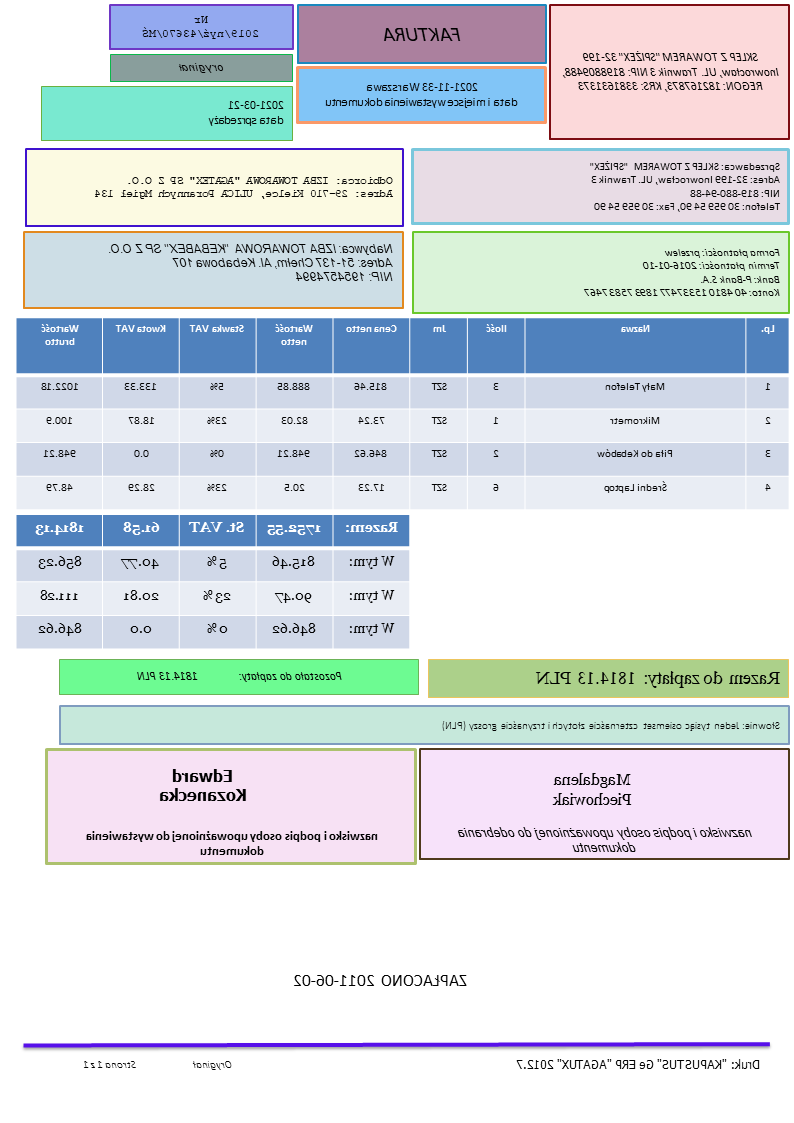Table: (14, 315, 793, 511), (13, 515, 412, 652)
TextBox: (102, 236, 399, 286), (581, 243, 784, 304), (588, 157, 784, 215), (81, 824, 382, 861), (558, 48, 784, 96), (90, 170, 397, 205), (453, 822, 757, 855), (437, 711, 786, 736), (322, 76, 522, 110), (536, 664, 786, 691), (513, 1053, 767, 1078), (286, 965, 472, 996), (131, 664, 346, 687), (156, 760, 250, 809), (138, 11, 262, 45), (550, 768, 636, 812), (206, 93, 289, 133), (80, 1053, 237, 1073), (382, 21, 465, 46), (175, 60, 227, 77)
